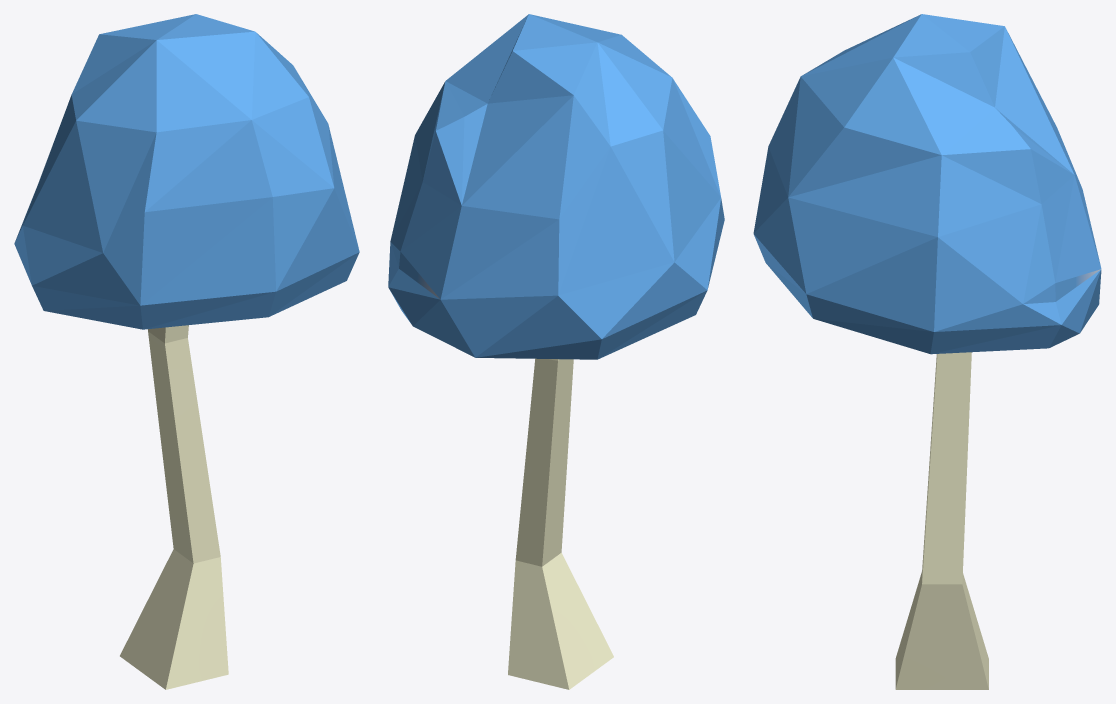
Rendered from Mushroom3.fbx.
The picture shows the model from 3 angles, left to right: view 1: azimuth 30°, elevation 25°; view 2: azimuth 150°, elevation 25°; view 3: azimuth 270°, elevation 25°; orthographic projection. The views are drawn at different scales.
Parts seen in each view (by area): view 1: Mushroom3; view 2: Mushroom3; view 3: Mushroom3.
Part boxes in pixels (x1,y1,x2,y2): Mushroom3: [14, 14, 359, 689]; Mushroom3: [388, 14, 724, 689]; Mushroom3: [753, 14, 1101, 689].
Size of the model in its own units: 9.6 by 18.92 by 9.23.
